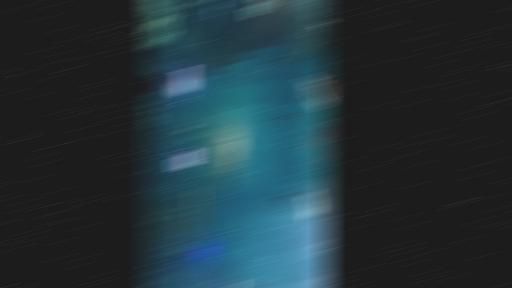Fish: (306, 75, 329, 110), (246, 0, 272, 17), (144, 71, 165, 91), (305, 192, 317, 217), (317, 118, 329, 142), (315, 145, 329, 165), (310, 128, 322, 150), (265, 60, 278, 75), (144, 278, 165, 287), (240, 76, 253, 89), (248, 55, 259, 69), (214, 0, 221, 20), (235, 68, 247, 78), (232, 152, 245, 161), (230, 164, 243, 173), (243, 53, 254, 63), (240, 141, 250, 152), (232, 76, 243, 85), (224, 61, 235, 70), (278, 192, 299, 196), (240, 51, 247, 60), (319, 20, 329, 26), (219, 0, 230, 5), (285, 182, 296, 187), (250, 96, 255, 106), (283, 199, 294, 202), (233, 77, 238, 83), (281, 176, 287, 180), (274, 116, 298, 117)
